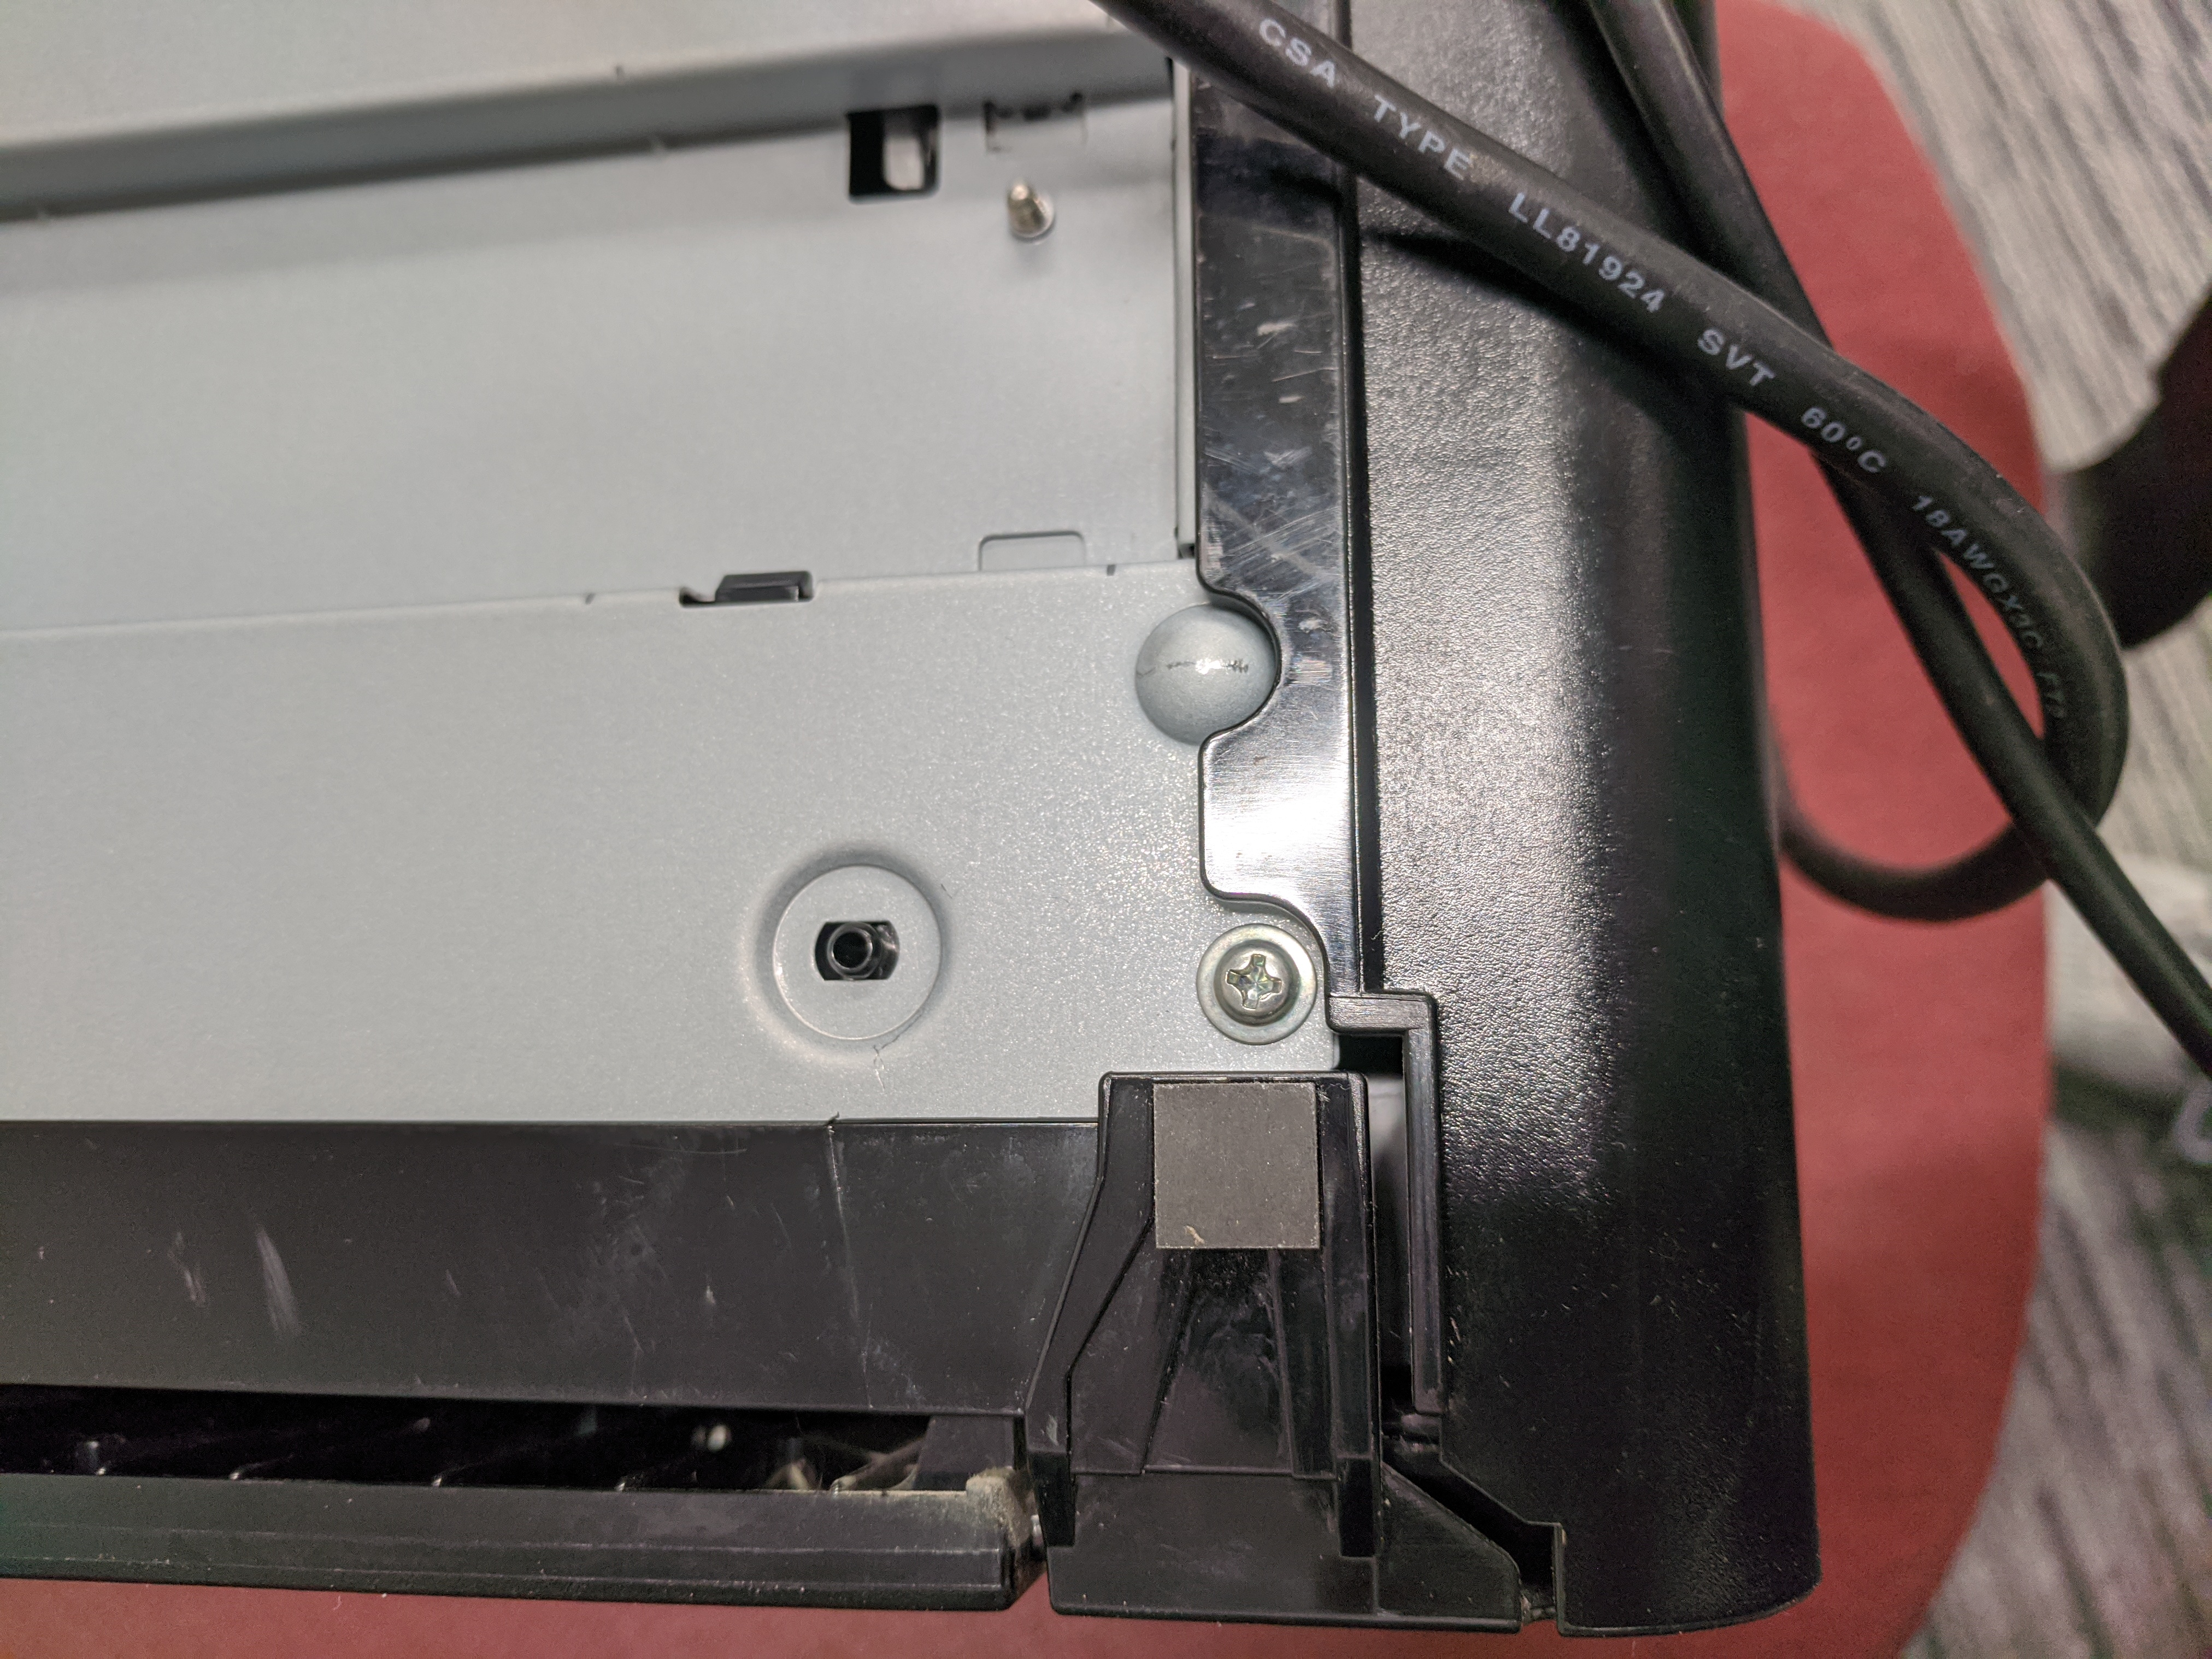cross_recessed_screw: (1205, 931, 1303, 1014)
